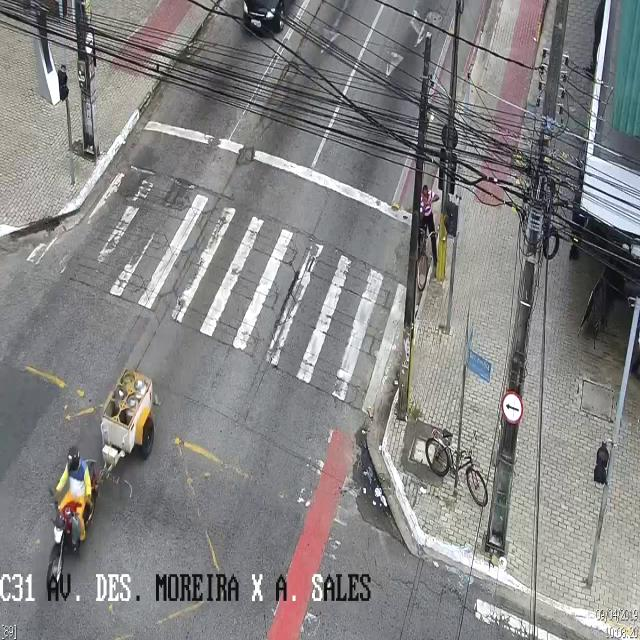Car: (232, 0, 301, 39)
Motorcycle: (46, 444, 98, 588)
